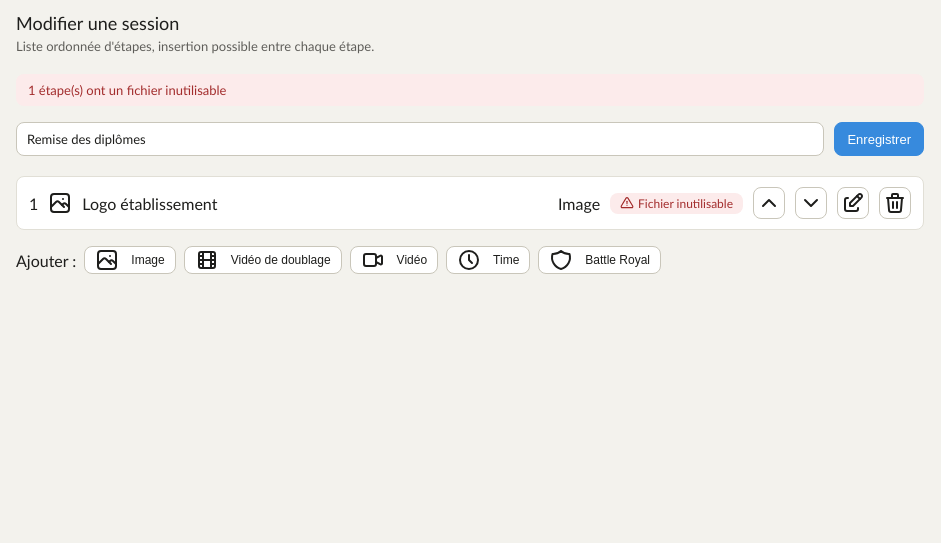
Test: SessionCreationScreen - media issue highlighting › highlights a step whose media check reports "missing": badge in the closed header, message and path once opened, banner with the right count
The width and height of the screenshot is (941, 543).
Expected: the text "Fichier inutilisable" is shown, [610,192,743,214]
Expected: the text "1 étape(s) ont un fichier inutilisable" is shown, [16,74,924,106]
# open the accordion: the full message with the path appears in the body
Click the button named "Modifier l'étape": (853, 203) [837,187,869,219]
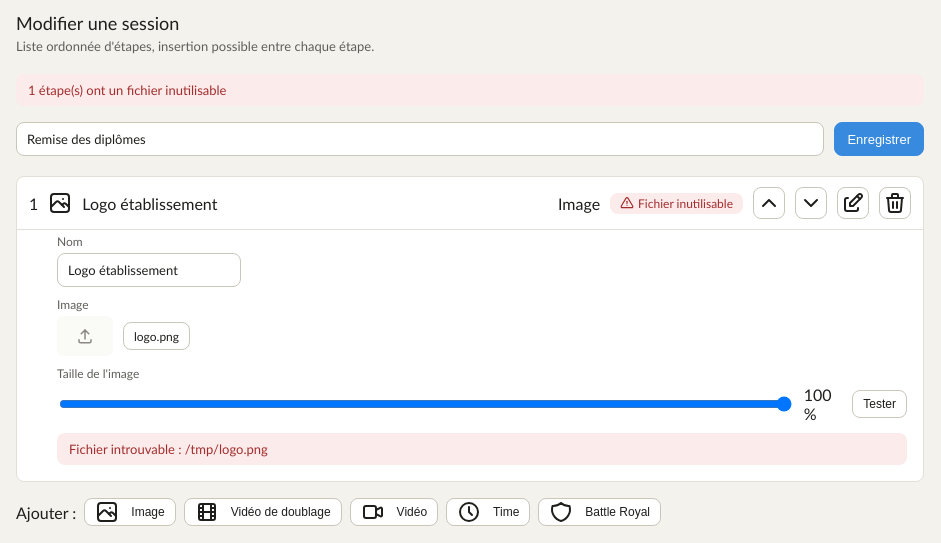
Expected: the text "Fichier introuvable : /tmp/logo.png" is shown, [57,433,907,465]
